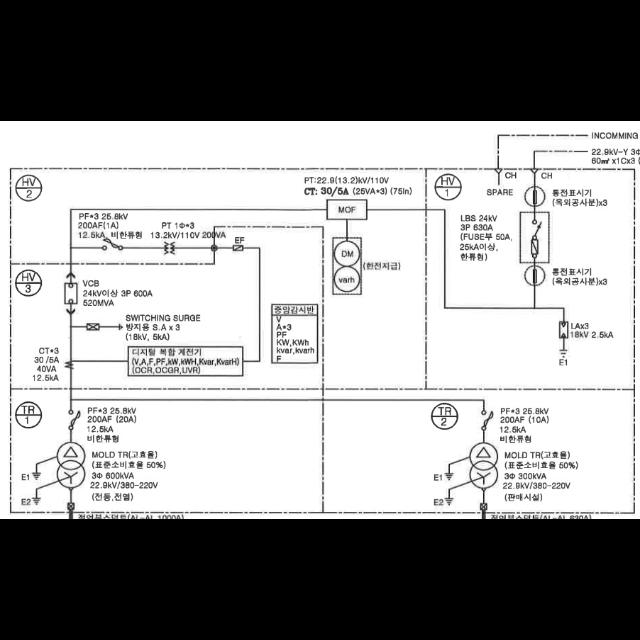CB: (65, 284, 77, 304)
CH: (495, 168, 503, 174), (530, 169, 538, 173)
CT: (66, 360, 74, 370)
GND: (32, 472, 42, 482), (558, 349, 568, 358), (444, 498, 454, 507), (32, 498, 42, 506), (444, 473, 454, 481)
LA: (560, 322, 568, 340)
MOF: (327, 200, 368, 220)
PF: (103, 238, 123, 250), (68, 411, 80, 431), (481, 411, 493, 431)
PF2: (233, 246, 243, 250)
PT: (164, 242, 176, 254)
TR: (57, 443, 85, 489), (469, 443, 497, 489)
